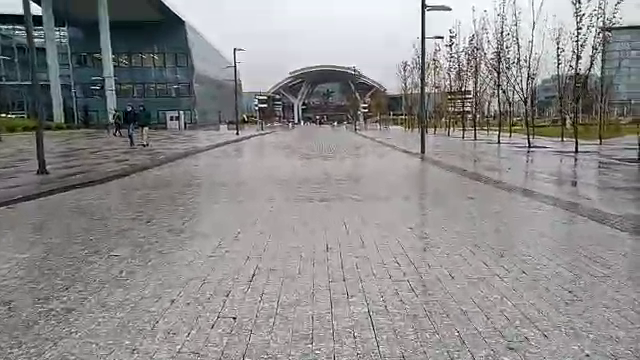mega: (259, 58, 398, 142)
